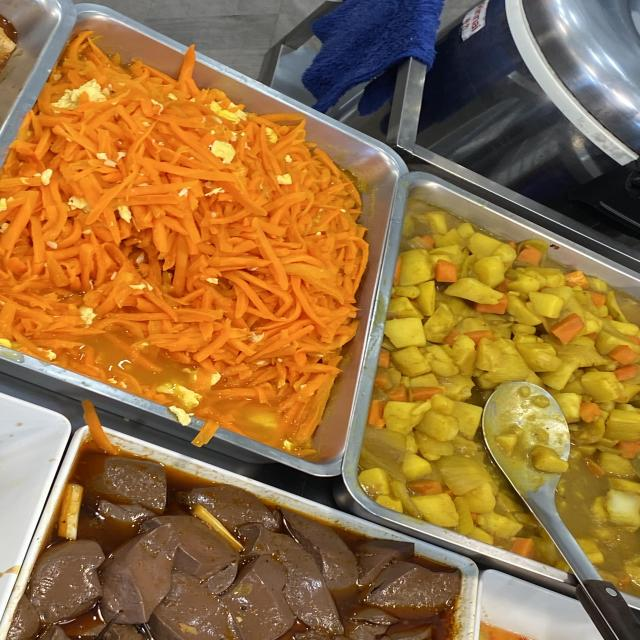Scrambled eggs with carrots: (42, 143, 298, 352)
